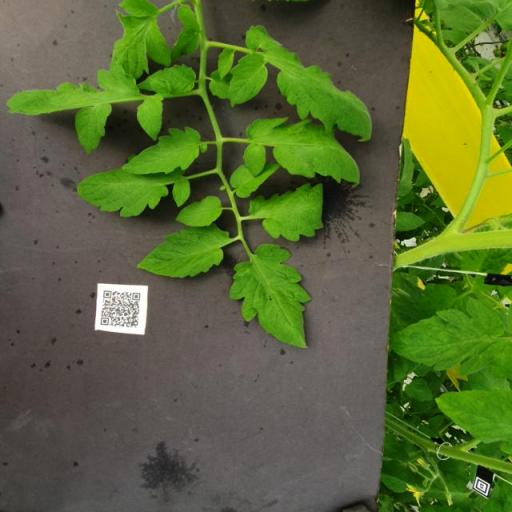Healthy: (228, 24, 374, 144), (4, 62, 138, 156), (229, 242, 318, 354), (244, 116, 362, 190), (76, 168, 190, 220), (134, 220, 232, 280), (121, 125, 207, 179), (249, 180, 325, 241), (136, 65, 197, 95), (174, 195, 224, 229), (137, 96, 164, 142)
